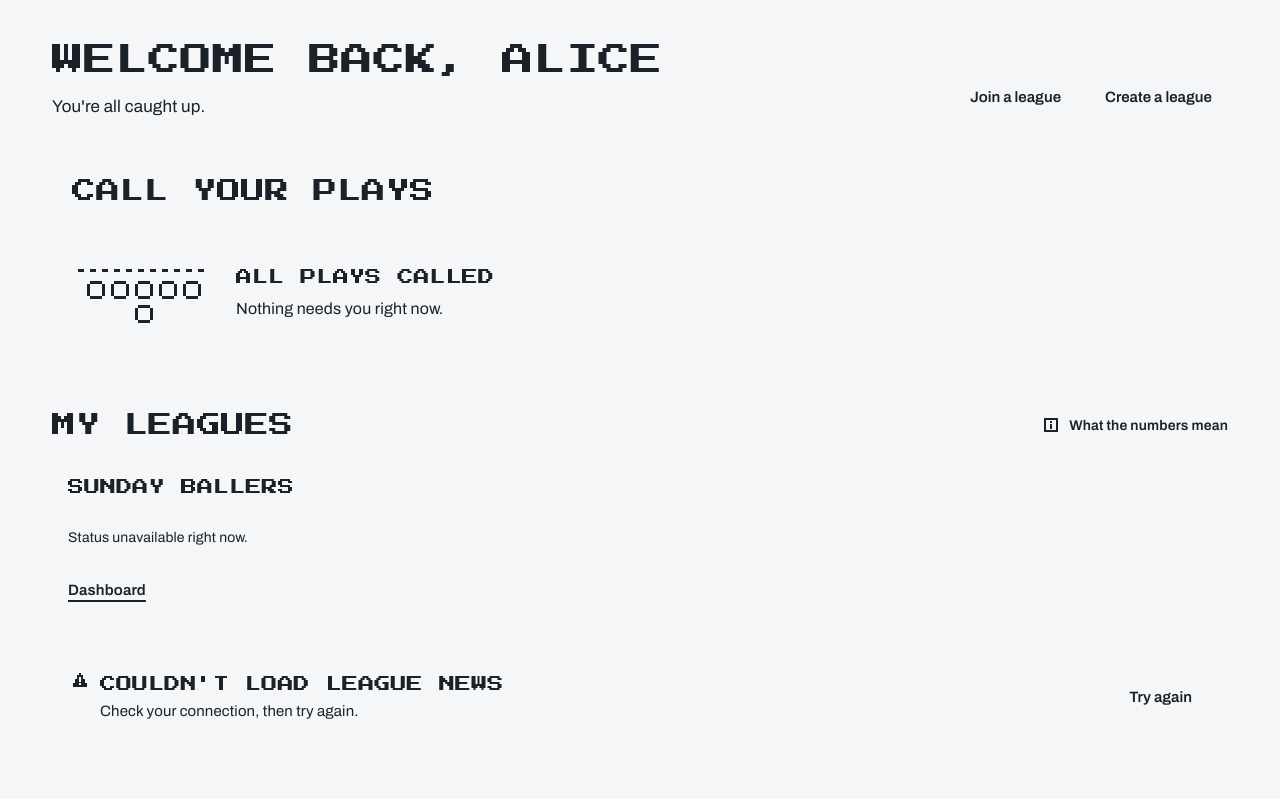
Test: a failed read says so, and Try again reads it again
Expected: the message shows "Couldn't load league news", [100,676,504,692]
Expected: the message shows "Check your connection, then try again.", [100,703,358,719]
Click the button "Try again": click(1161, 697) [1113,675,1208,719]
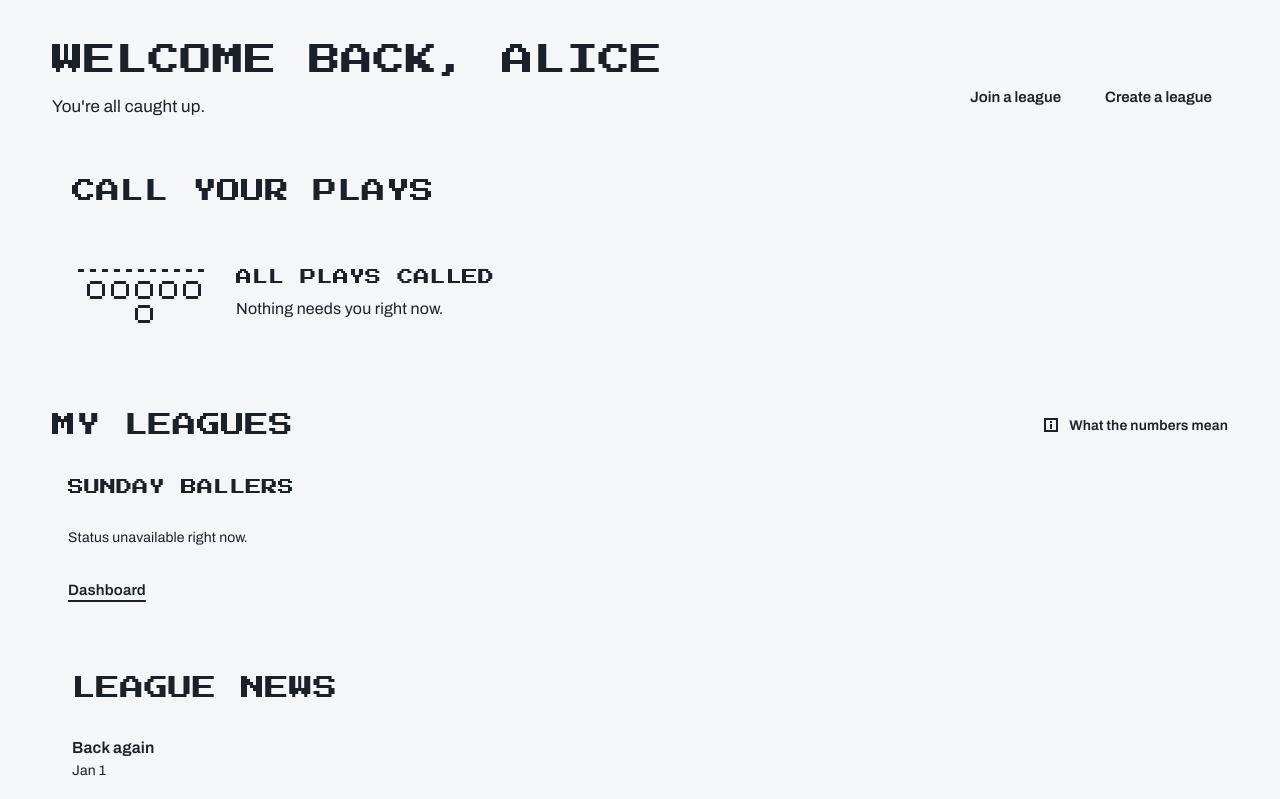
Now the text "Back again" is shown, box [72,739,154,756]
